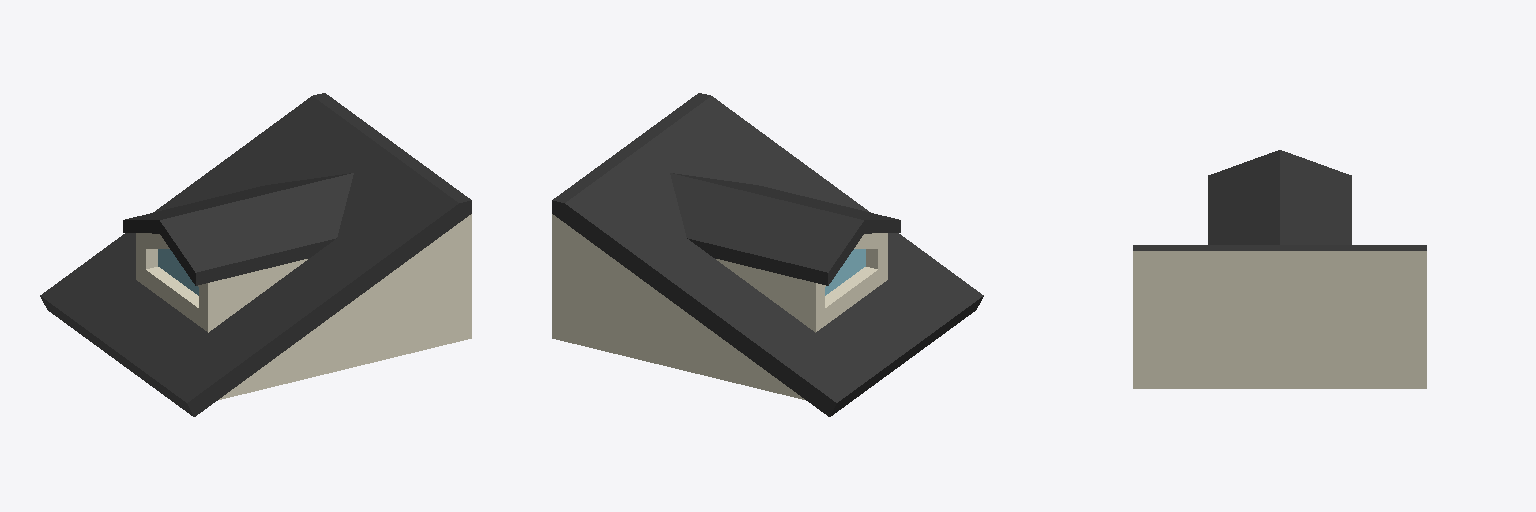
The model's file is modularBuildings_063.obj.
The picture shows the model from 3 angles: view 1: azimuth 30°, elevation 25°; view 2: azimuth 150°, elevation 25°; view 3: azimuth 270°, elevation 25°; orthographic projection.
Parts seen in each view (by area): view 1: modularBuildings_063; view 2: modularBuildings_063; view 3: modularBuildings_063.
Boxes of the visible parts, <box> form: modularBuildings_063: <box>40,93,471,416</box>; modularBuildings_063: <box>552,93,983,416</box>; modularBuildings_063: <box>1133,150,1426,388</box>.
Size of the model in its own units: 1.12 by 0.5612 by 1.